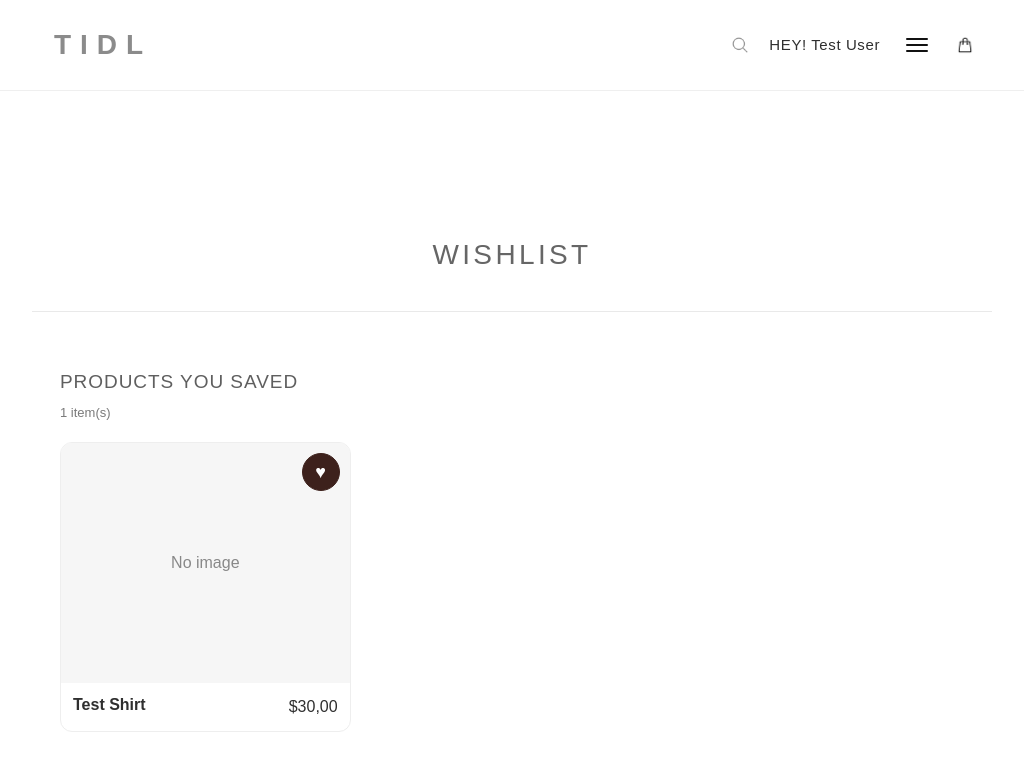
Scenario: Wishlist page › removes an item from wishlist when heart button is clicked
The width and height of the screenshot is (1024, 768).
Expected: the text "Test Shirt" is shown, [73,696,146,720]
Expected: the text "1 item(s)" is shown, [60,405,111,420]
Click the button named "remove from wishlist".
click(321, 472)  # box [302,454,340,492]
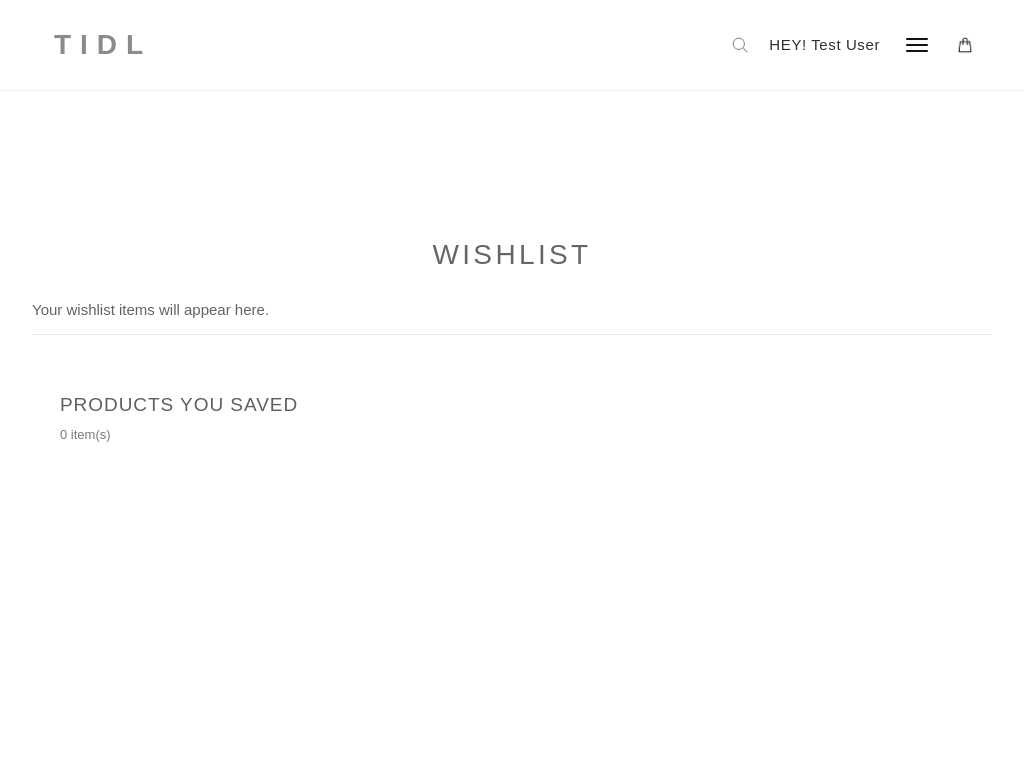
Expected: the text "Test Shirt" is gone
Expected: the text "0 item(s)" is shown, [60,428,111,442]
